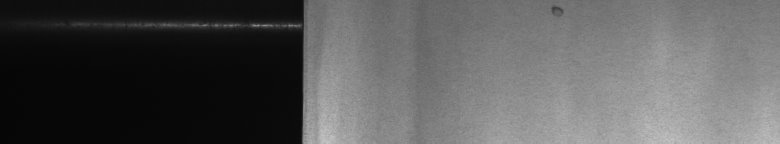fi: (549, 4, 564, 23)
